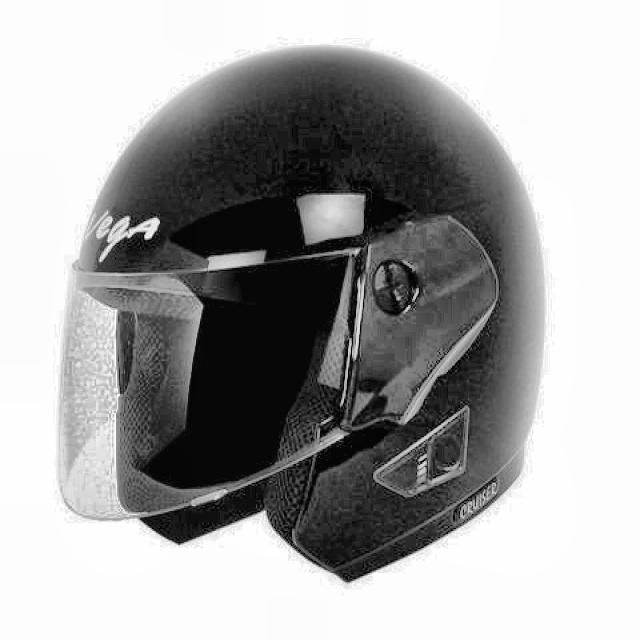Helmet: (45, 28, 561, 590)
